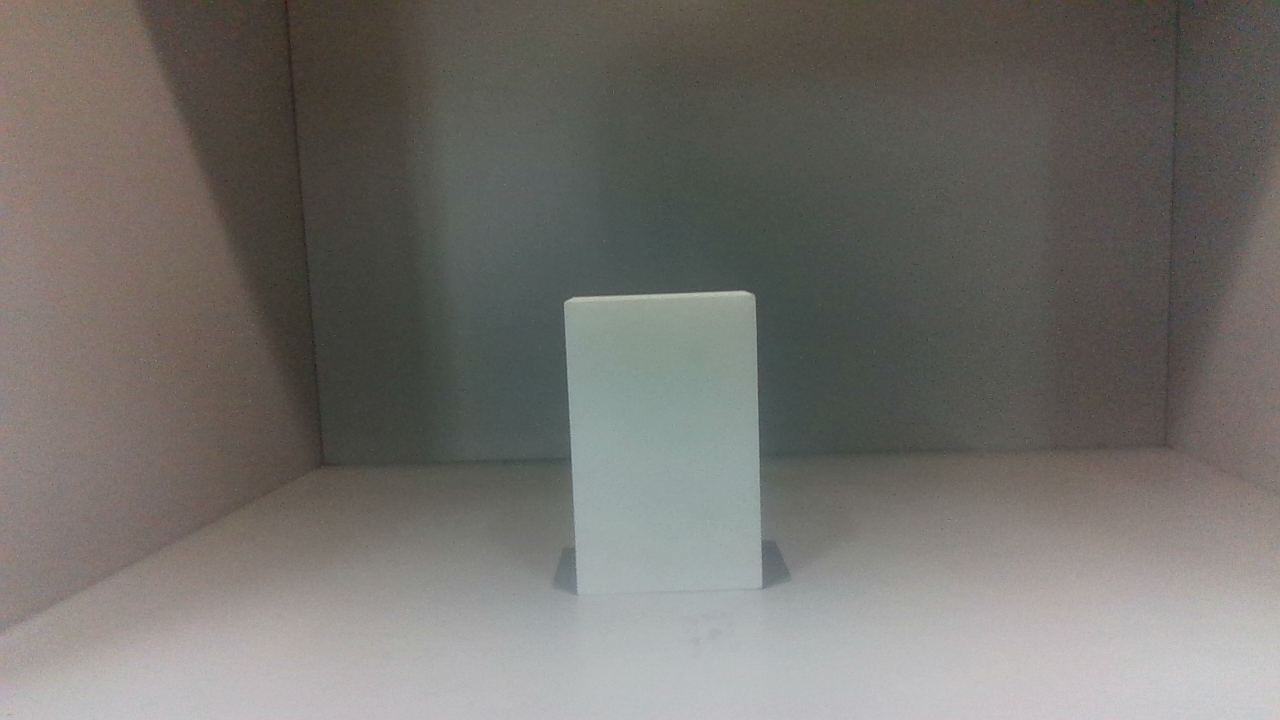Retangulo: (564, 291, 760, 593)
